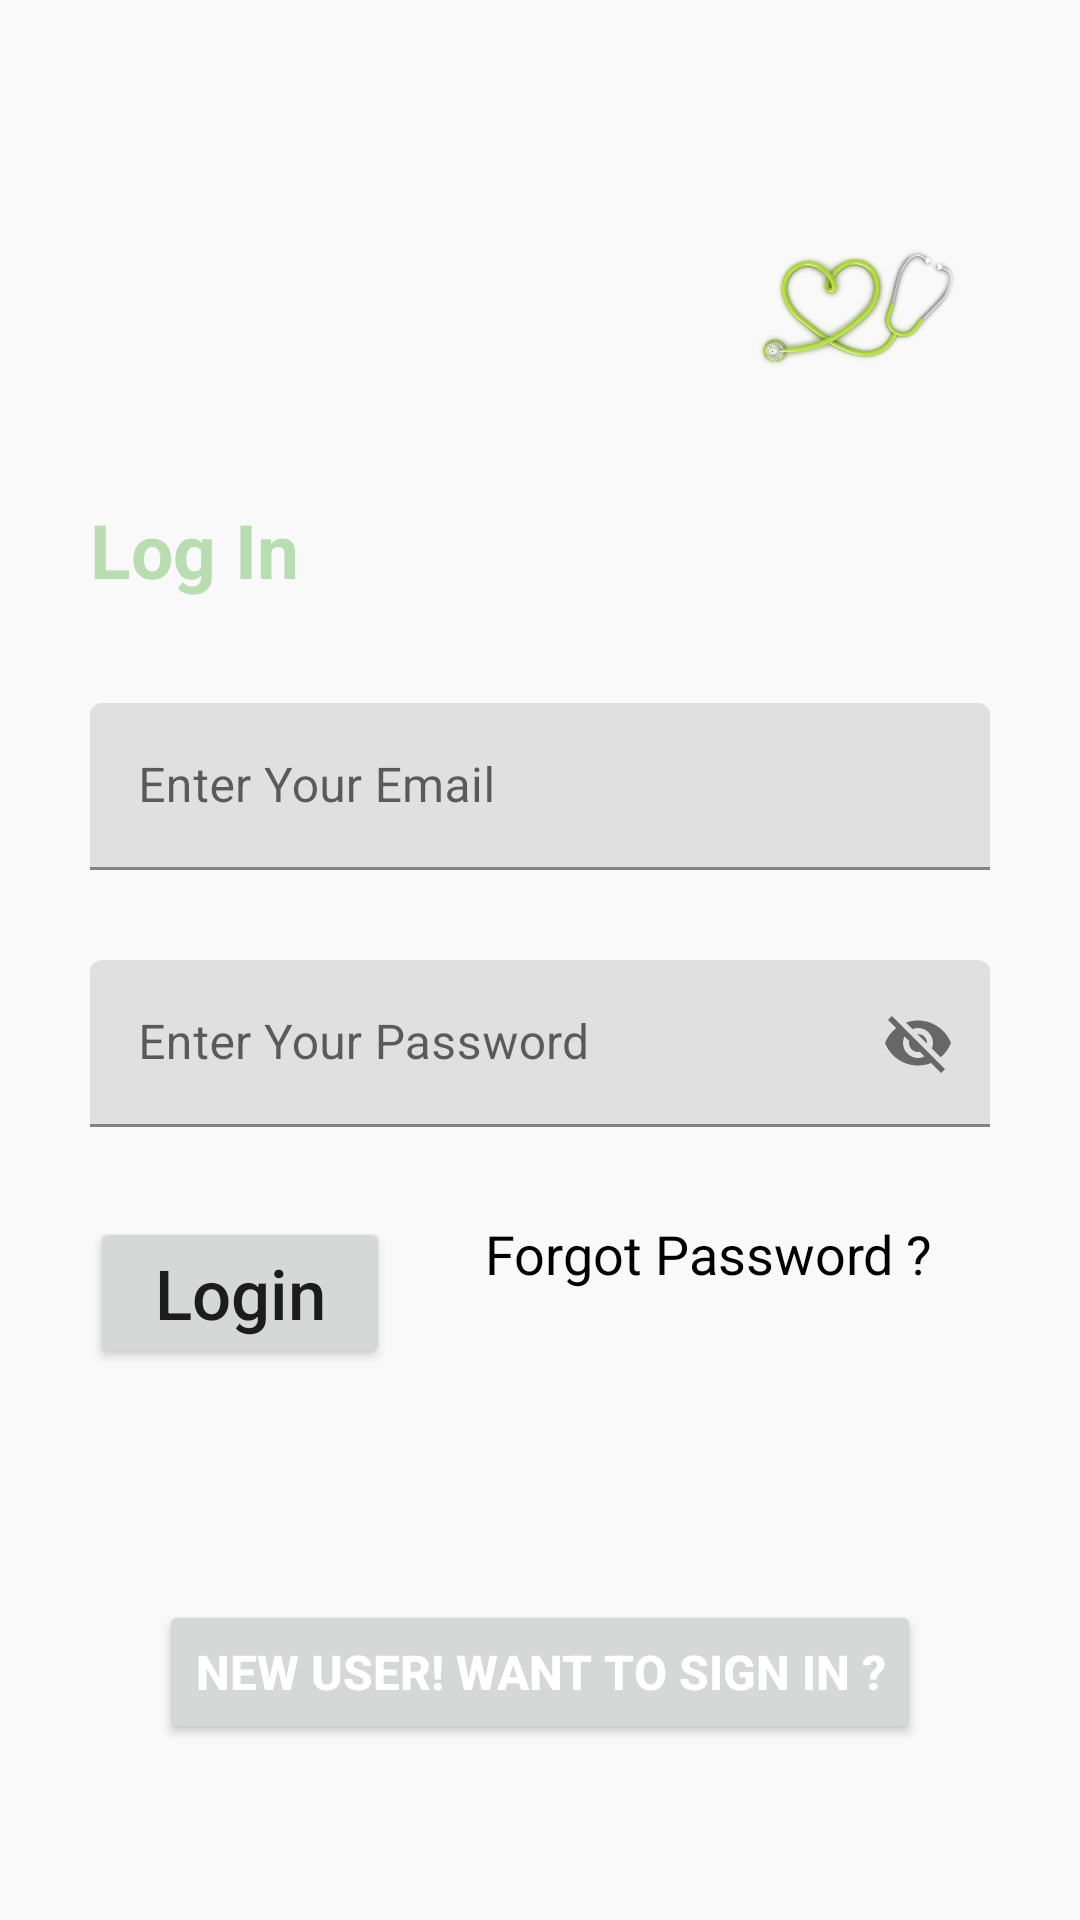

Locate icon controls on the screen. Image size 1080x1920, boxes as [x1=x1, y1=y1, x2=x2, y2=y2].
stethoscope: [x1=762, y1=253, x2=952, y2=363]
